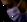with_mask: (1, 1, 27, 22)
